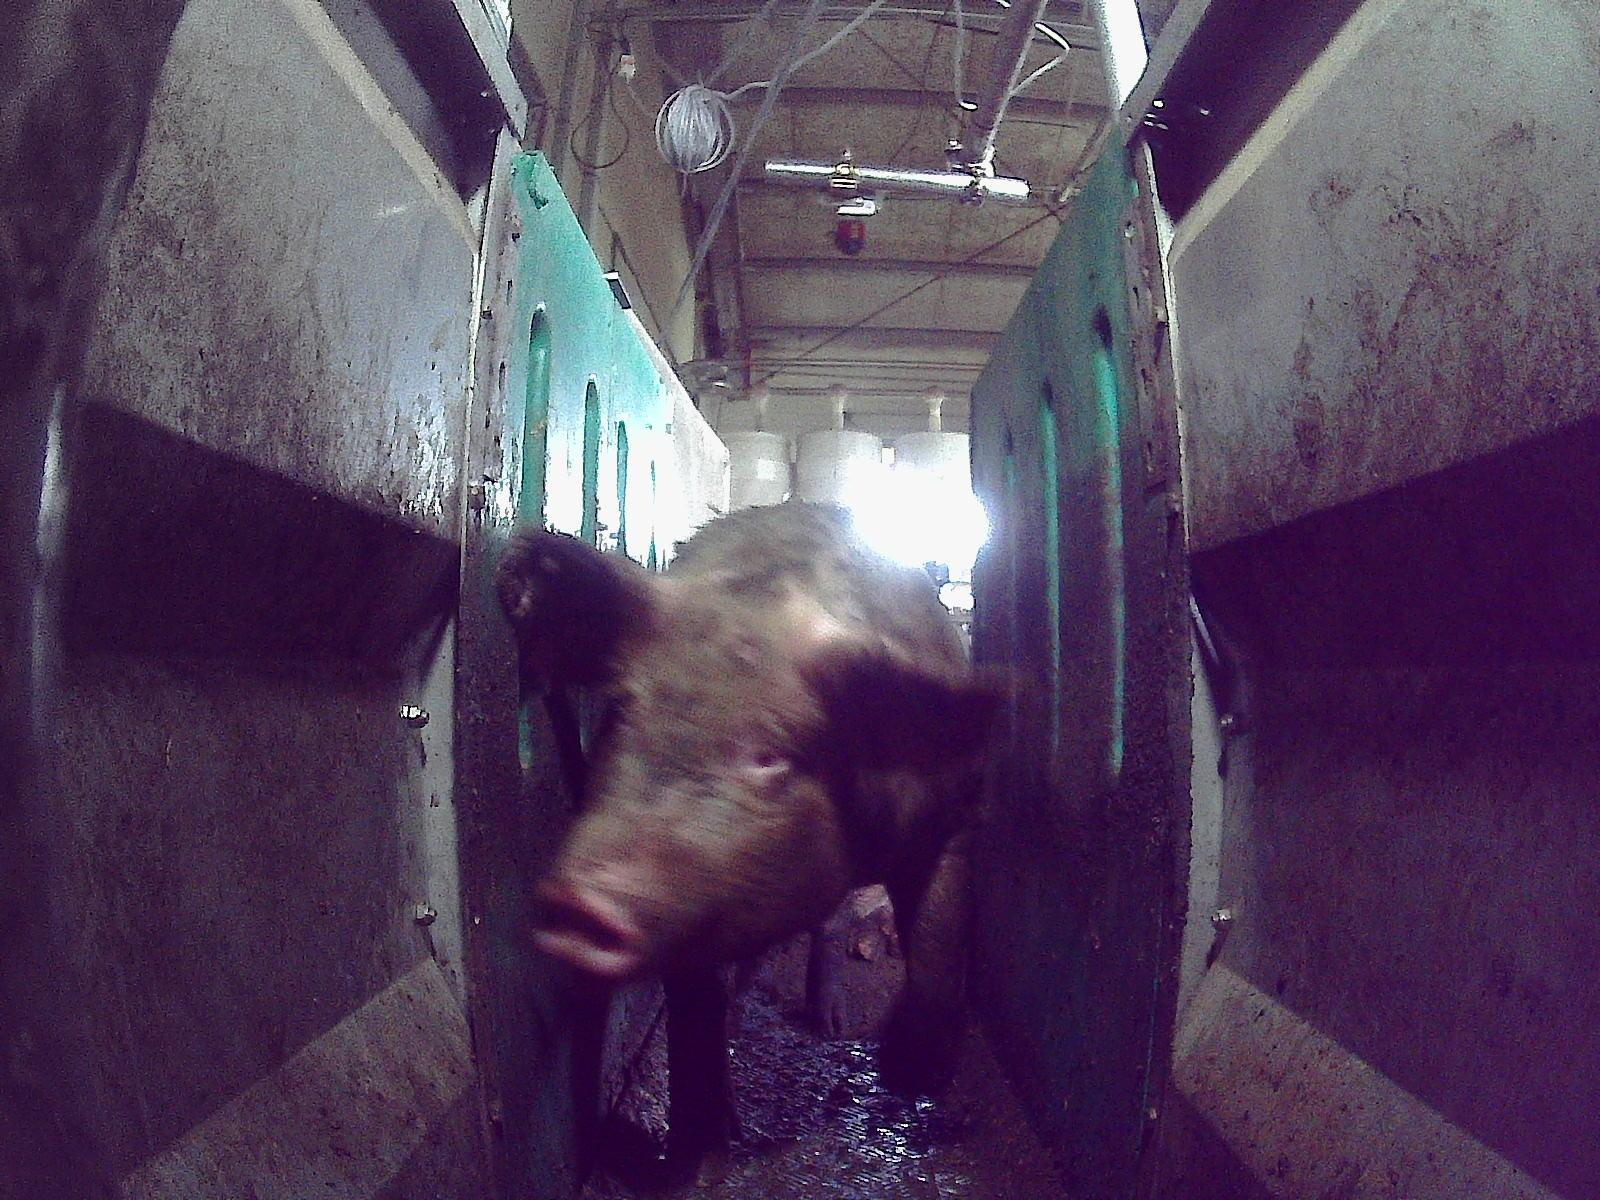Face: (528, 607, 848, 988)
